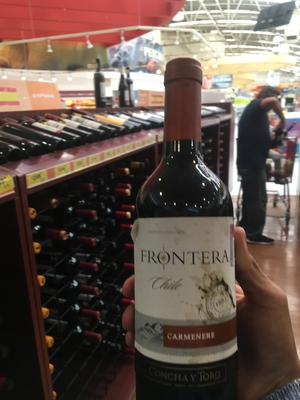frontera carmenere: (116, 55, 249, 381)
